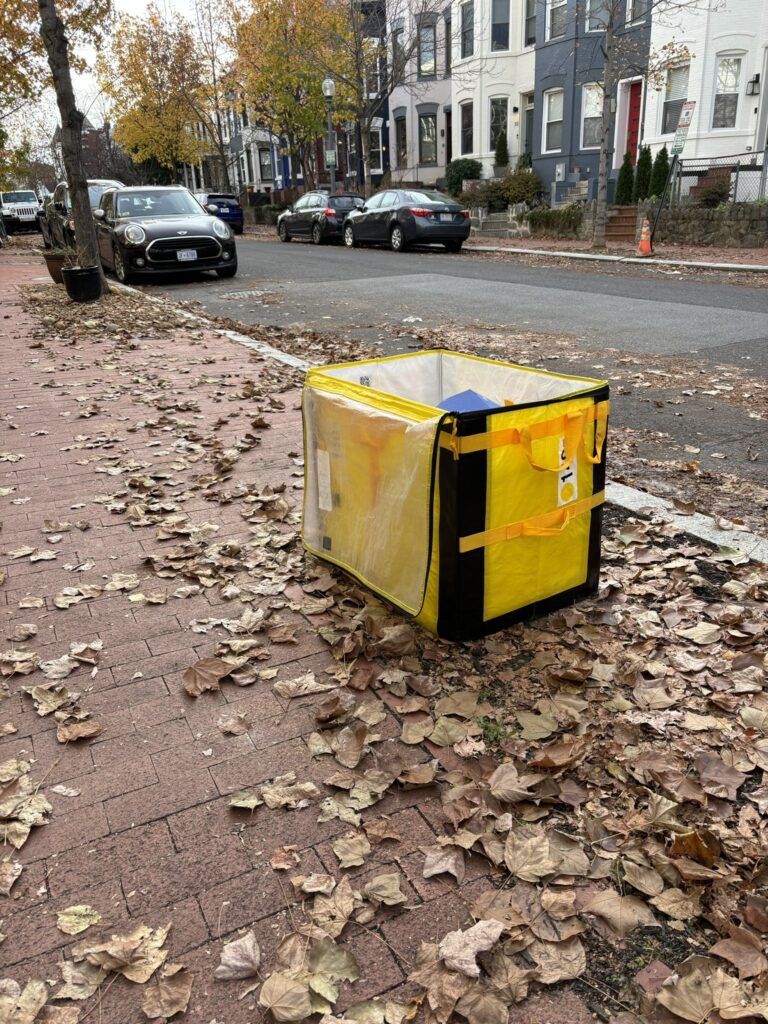Car: (92, 180, 253, 301), (333, 175, 481, 249), (266, 184, 367, 249)
Tree: (219, 3, 408, 191), (13, 1, 116, 307), (94, 22, 226, 163)
